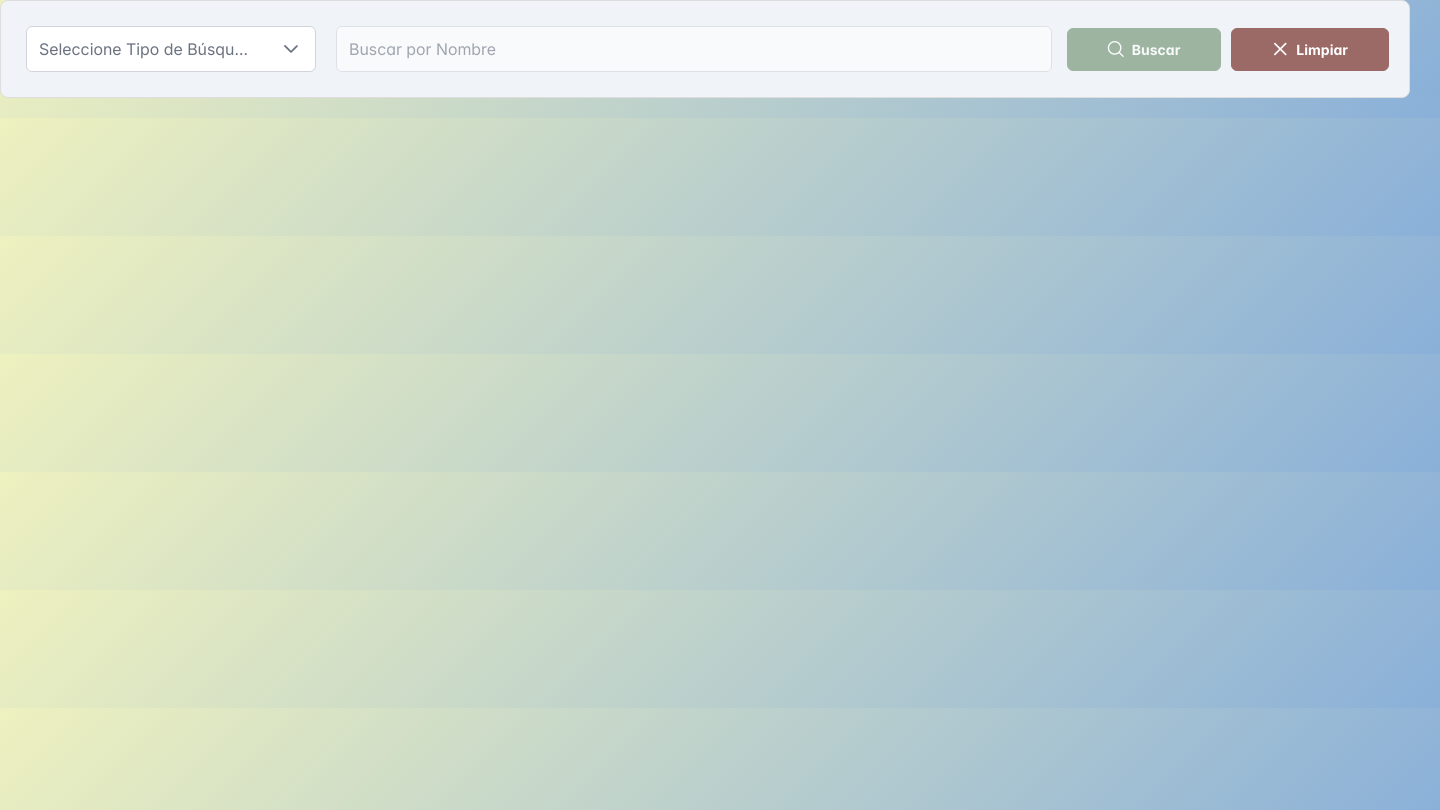
Test: CategorySearch › Muestra el input correcto cuando se selecciona el tipo de búsqueda
Selecciona "Nombre"
Click the element with test id "search-type-dropdown" at (171, 49), box x1=26 y1=26 x2=316 y2=72
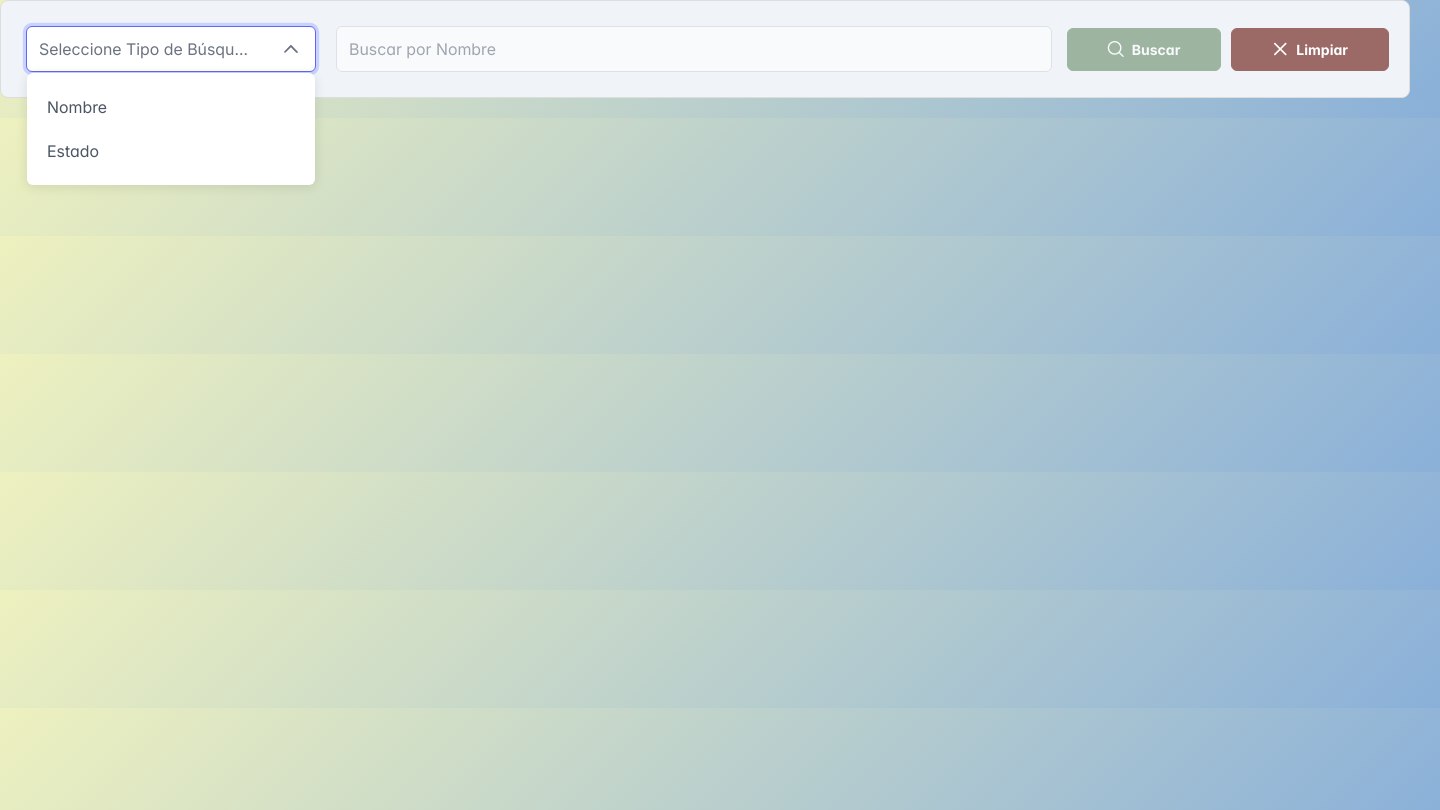
Click the option "Nombre" at (77, 107), box x1=47 y1=97 x2=107 y2=117
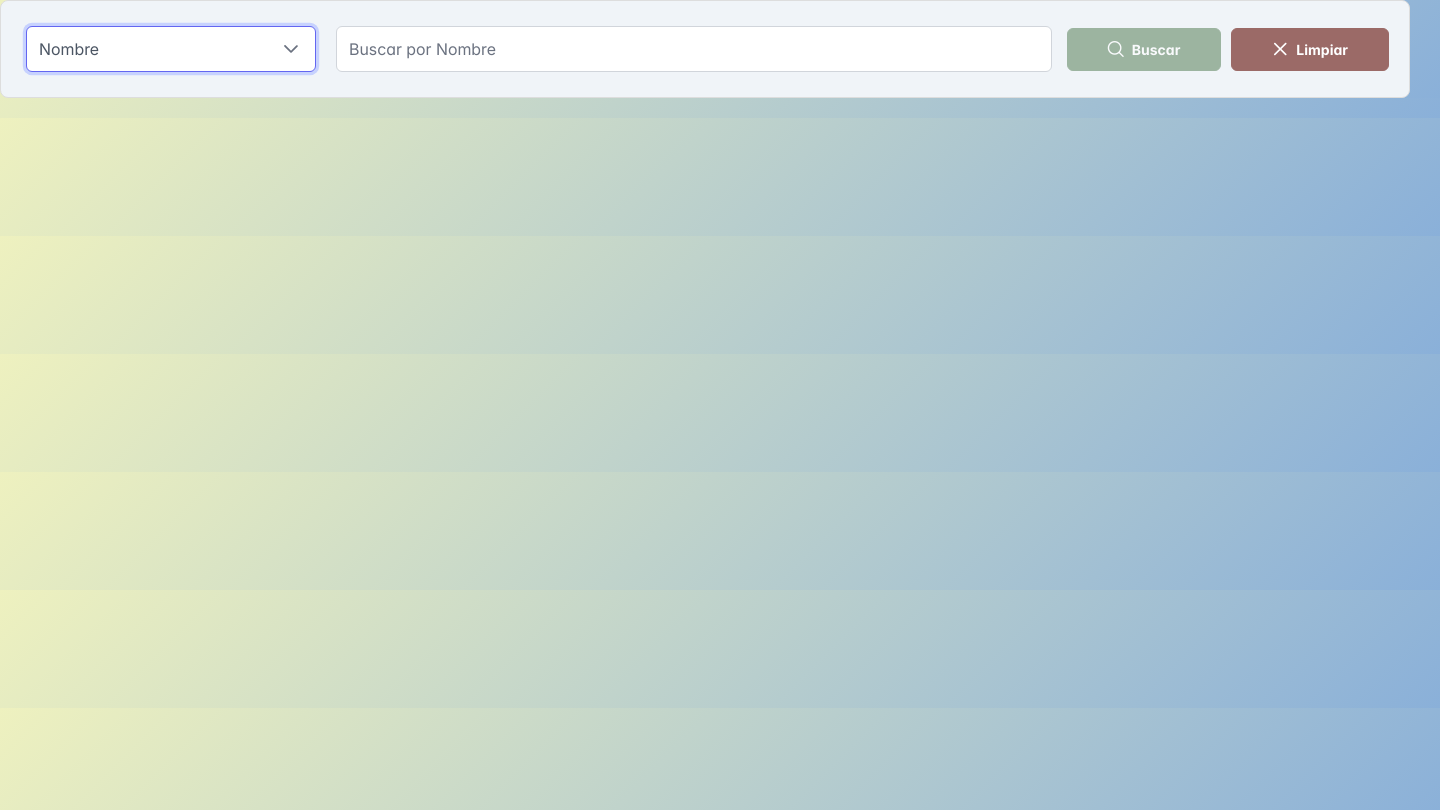
Check: the field with placeholder "Buscar por Nombre" is shown, box x1=336 y1=26 x2=1052 y2=72
Selecciona "Estado"
Click the element with test id "search-type-dropdown" at (171, 49), box x1=26 y1=26 x2=316 y2=72
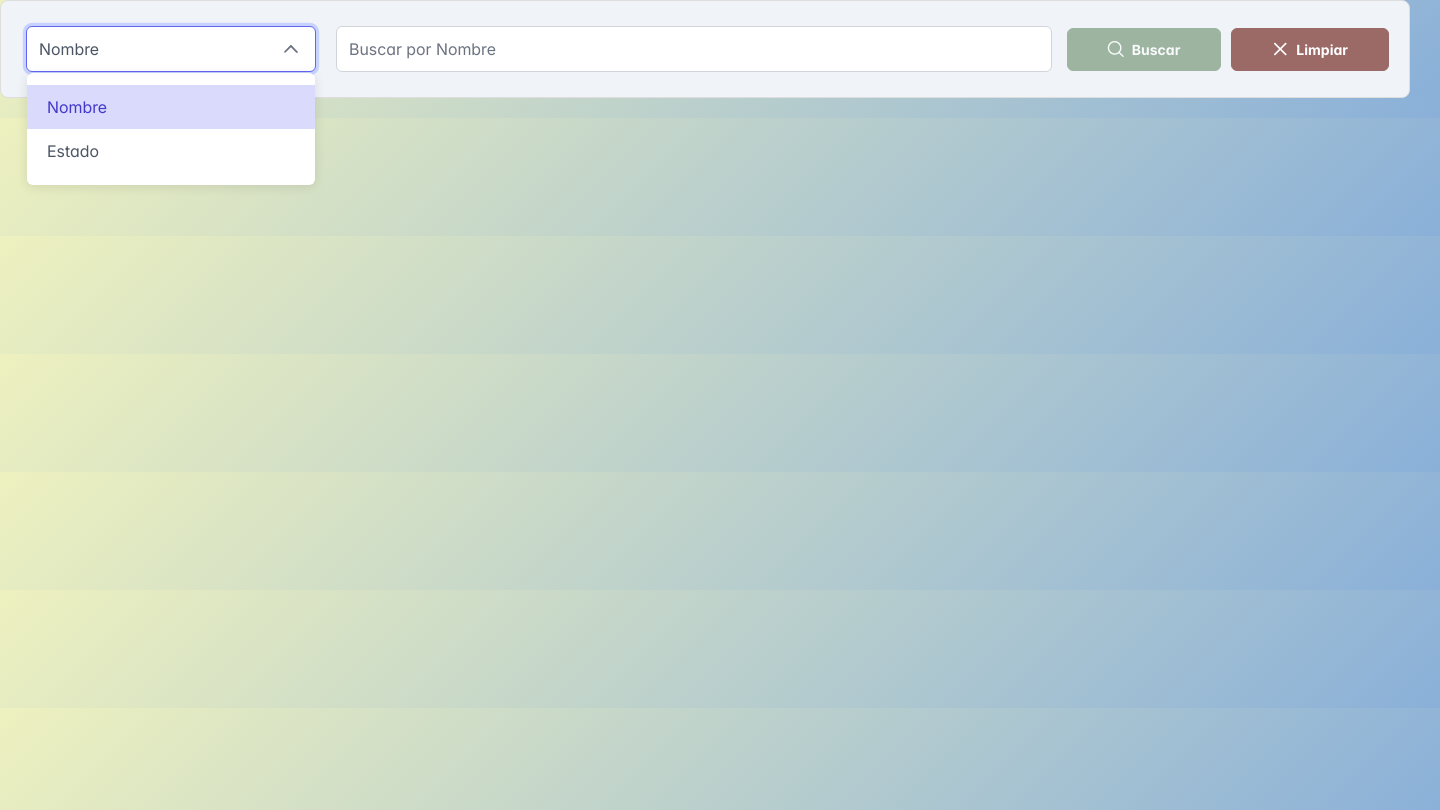
Click the option "Estado" at (73, 151), box x1=47 y1=141 x2=99 y2=161
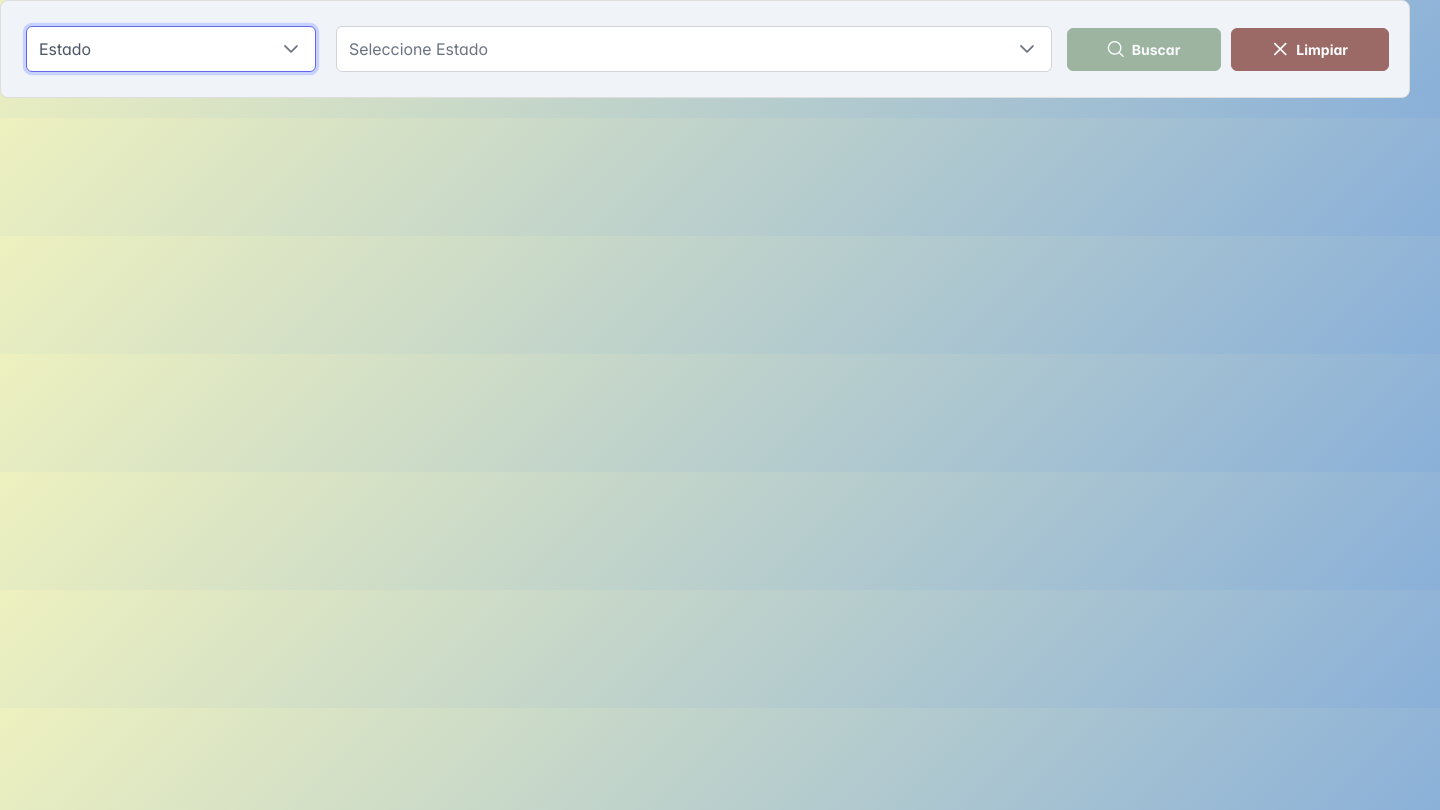
Check: the button named "Seleccione Estado" is shown, box x1=1019 y1=41 x2=1035 y2=57
